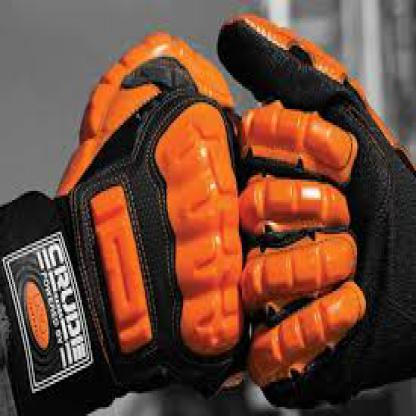with_gloves: (2, 34, 248, 414), (216, 13, 414, 414)
